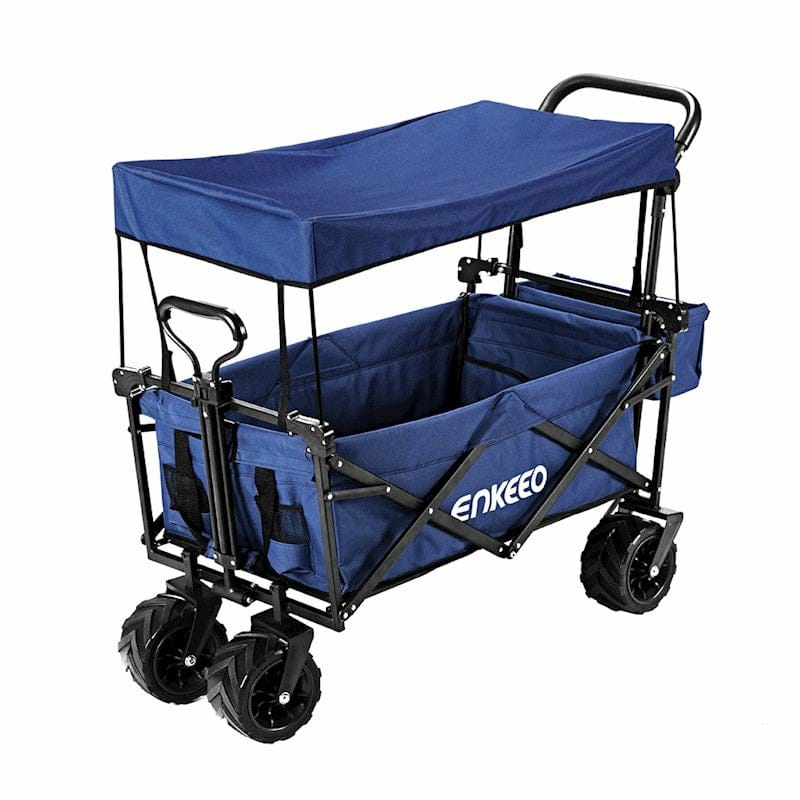Carts: (110, 74, 709, 745)
